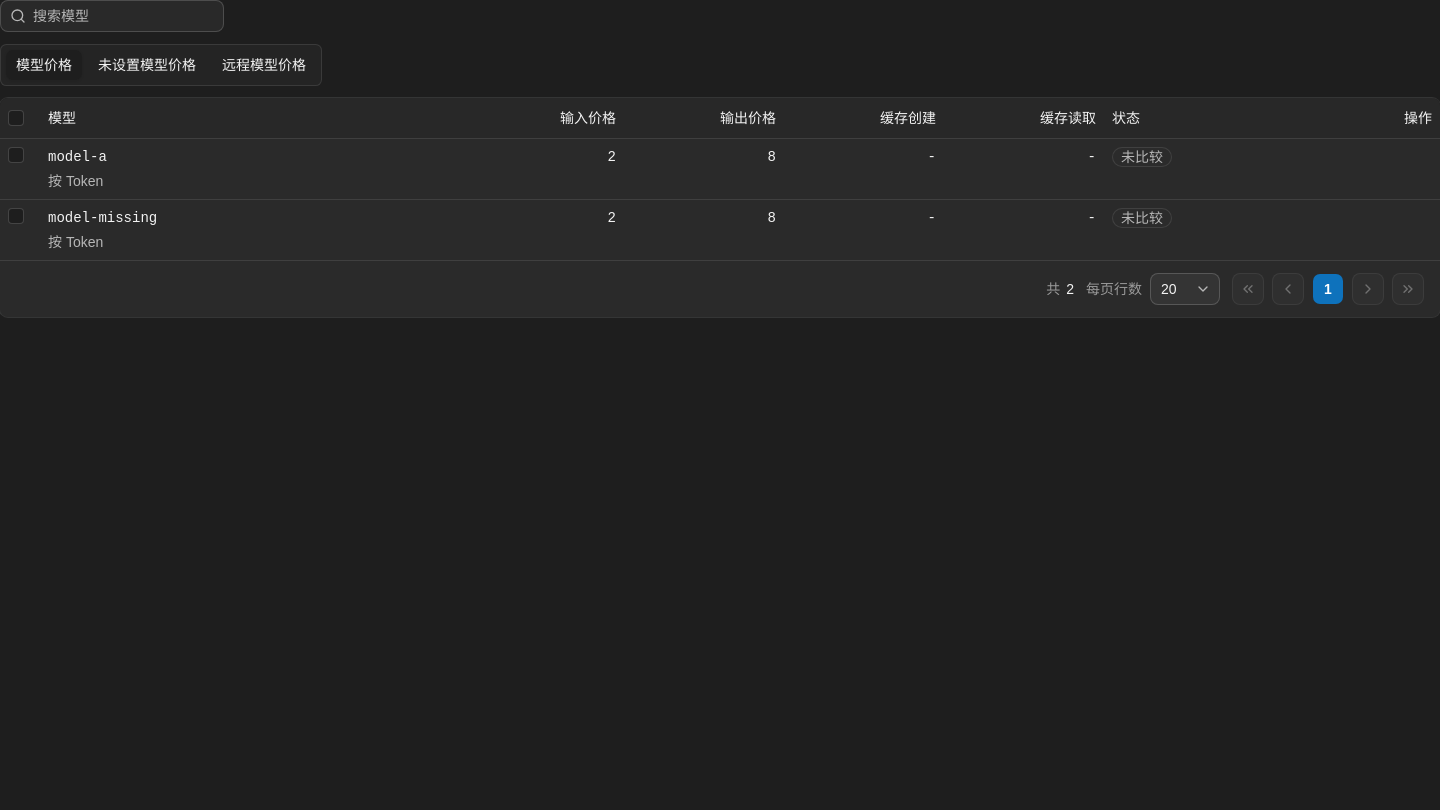
Test: 批量模型价格同步 › 加载参考价失败时显示原因且禁止确认
The image size is (1440, 810).
Click the checkbox named "选择本页模型" at x=16, y=118, box [8, 110, 24, 126]
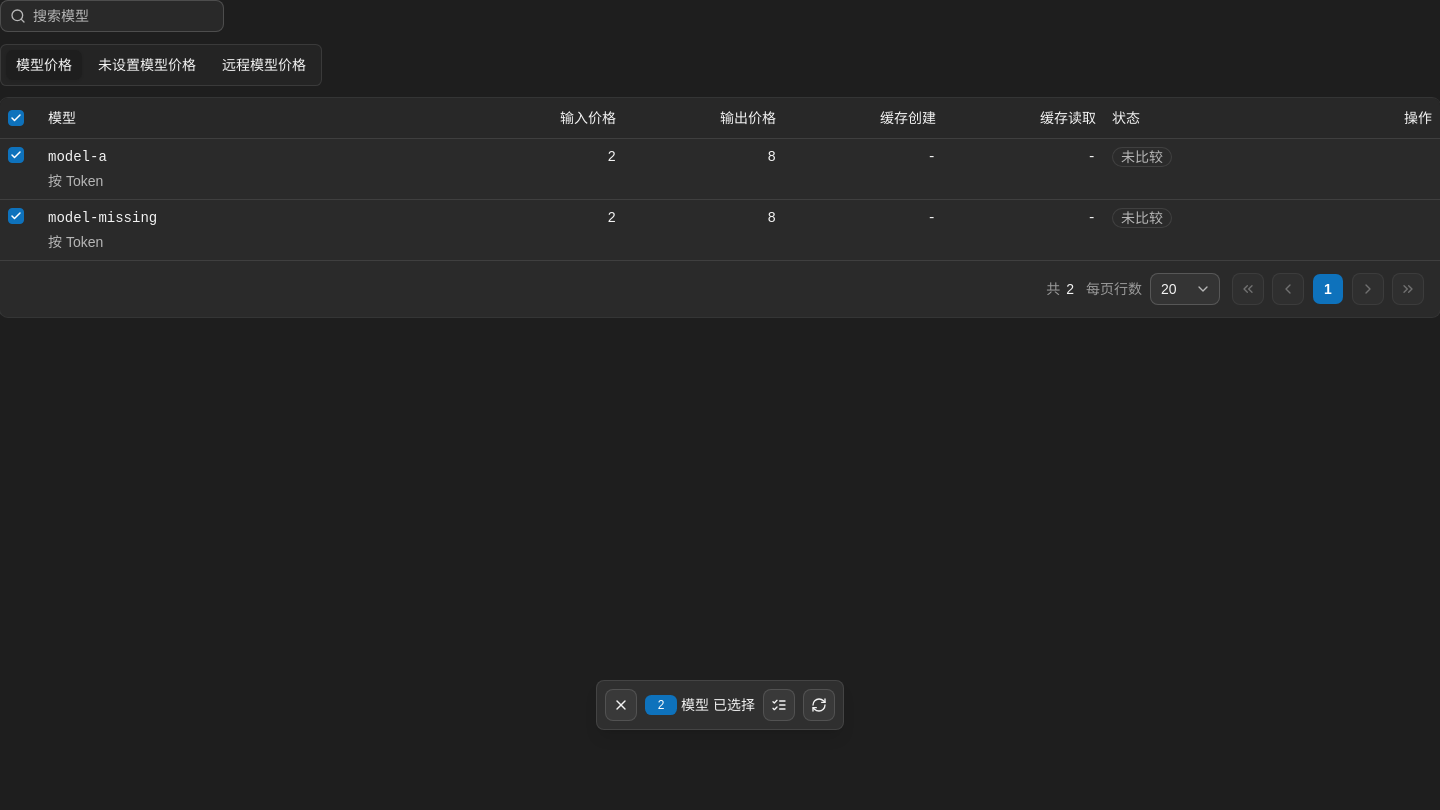
Click the button named "批量同步（2）" at x=819, y=705, box [803, 689, 835, 721]
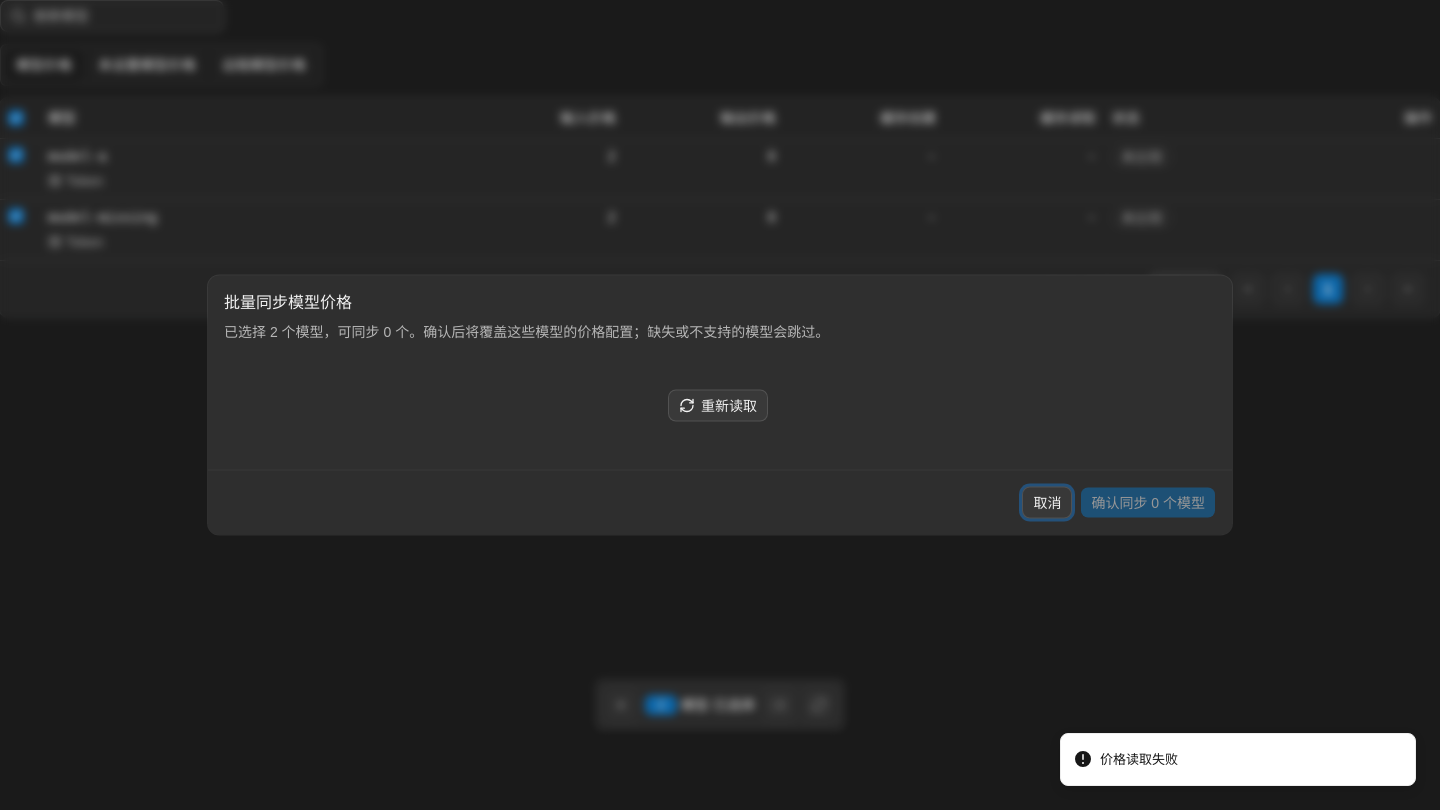
Check: the text "价格读取失败" is shown, box [1100, 750, 1178, 769]
Check: the button "确认同步 0 个模型" is disabled, box [1080, 486, 1216, 518]
